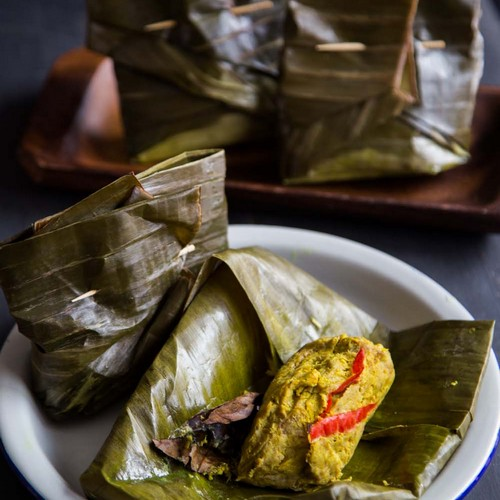tum ayam: (209, 326, 399, 490)
